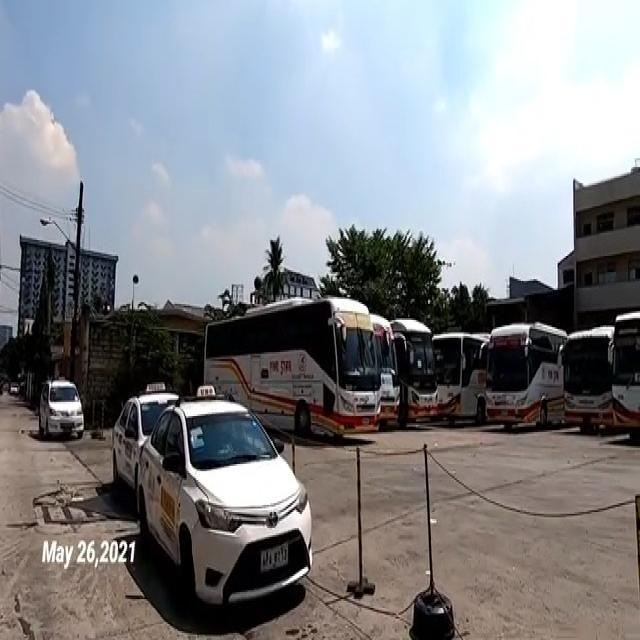bus: (205, 294, 382, 440), (486, 322, 567, 432), (562, 325, 616, 435), (431, 330, 488, 422), (392, 318, 438, 430), (610, 309, 640, 446), (378, 312, 400, 429)
car: (138, 396, 314, 615), (110, 392, 182, 502), (37, 378, 85, 442)
